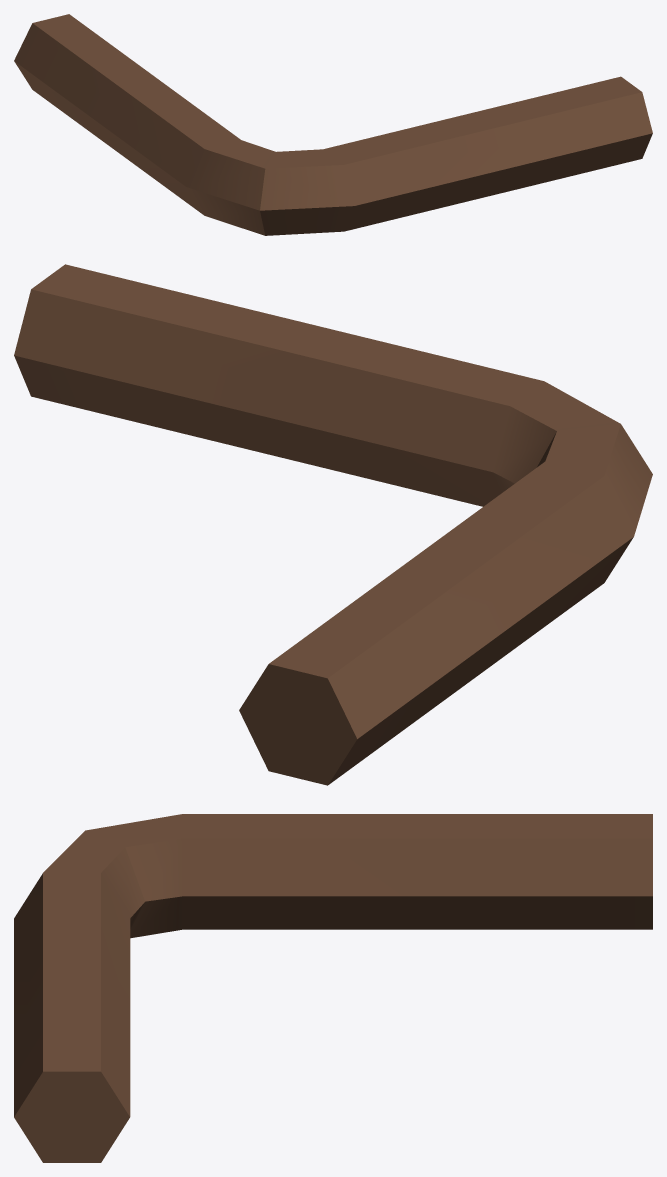
The model's file is SM_Prop_DownPipe_Corner_01.fbx.
The picture shows the model from 3 angles, top to bottom: view 1: azimuth 30°, elevation 25°; view 2: azimuth 150°, elevation 25°; view 3: azimuth 270°, elevation 25°; orthographic projection. The views are drawn at different scales.
Parts seen in each view (by area): view 1: SM_Prop_DownPipe_Corner_01; view 2: SM_Prop_DownPipe_Corner_01; view 3: SM_Prop_DownPipe_Corner_01.
Part boxes in pixels (bbox=[...]): SM_Prop_DownPipe_Corner_01: bbox=[14, 14, 652, 235]; SM_Prop_DownPipe_Corner_01: bbox=[14, 264, 652, 785]; SM_Prop_DownPipe_Corner_01: bbox=[14, 814, 652, 1162].
Bounding box in the file's own units: 110 × 17.45 × 110.
